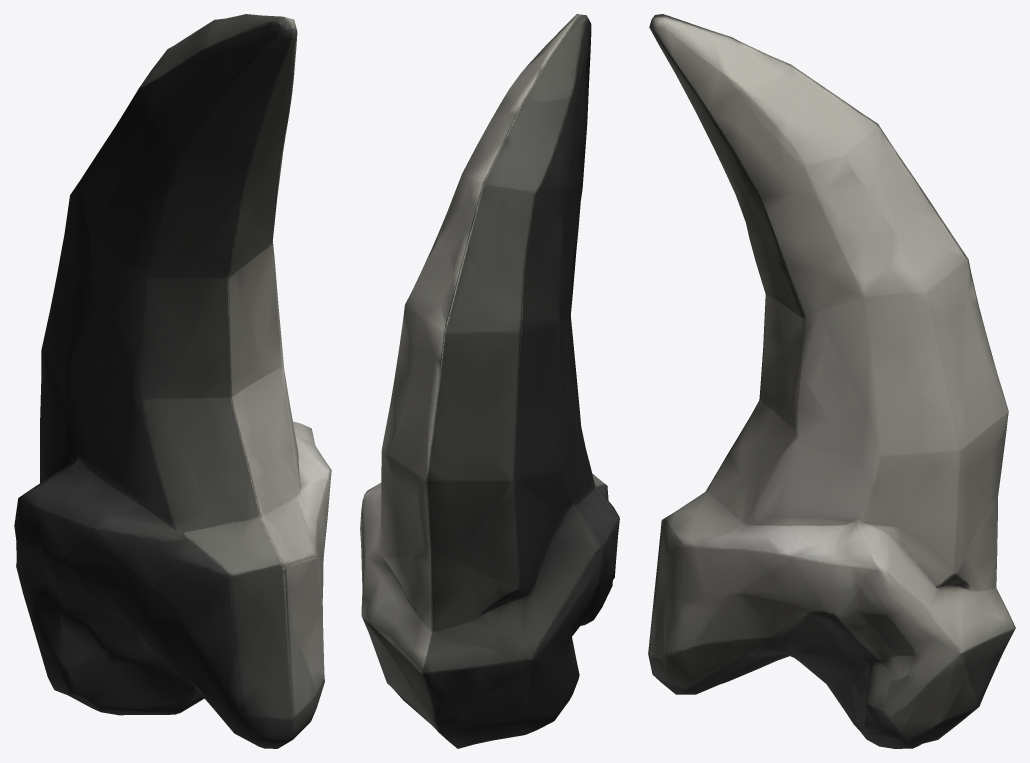
Rendered from fang.glb.
3 views of the same model, side by side, from view 1: azimuth 30°, elevation 25°; view 2: azimuth 150°, elevation 25°; view 3: azimuth 270°, elevation 25° (orthographic). The views are drawn at different scales.
Parts seen in each view (by area): view 1: world; view 2: world; view 3: world.
Part boxes in pixels (<box>): world: <box>14,14,331,748</box>; world: <box>360,14,619,748</box>; world: <box>648,14,1015,748</box>.
Size of the model in its own units: 0.3826 by 0.9964 by 0.4567.
1 material, 1 textured.
